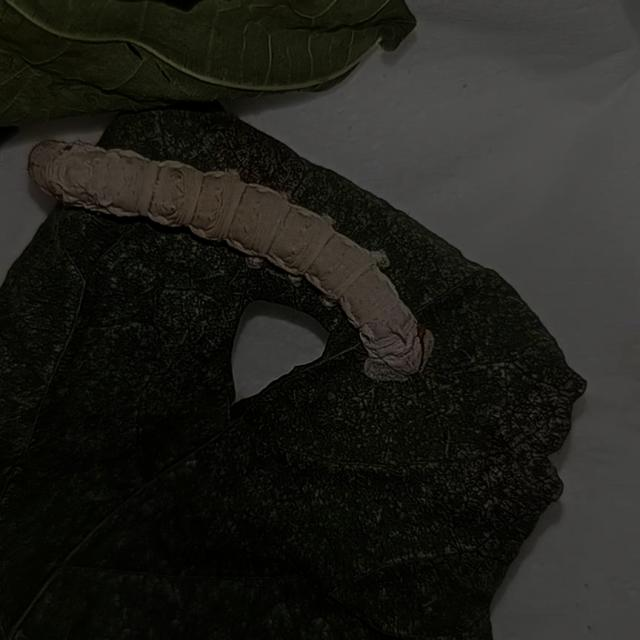Healthy: (21, 117, 440, 410)
